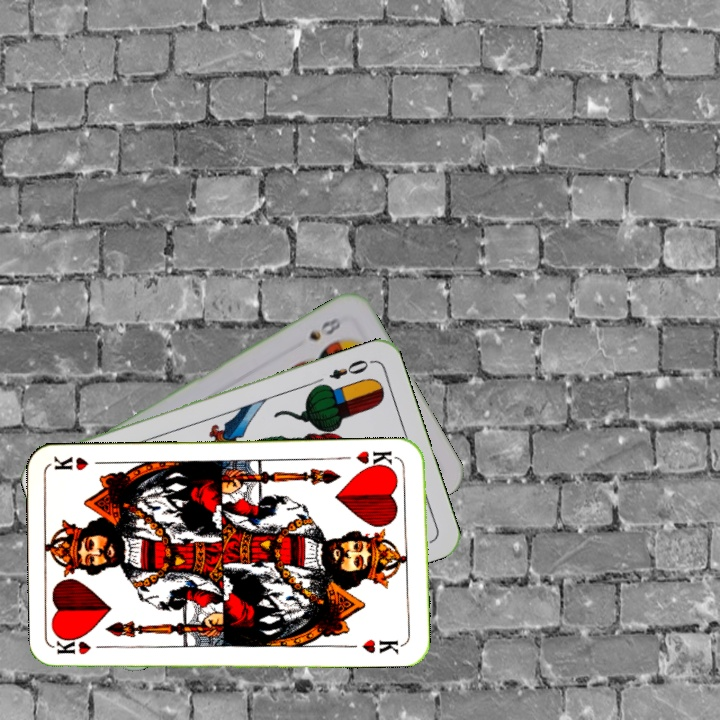EO: (325, 355, 375, 382)
HK: (352, 446, 400, 472), (54, 637, 113, 657)
S8: (305, 313, 344, 344)
